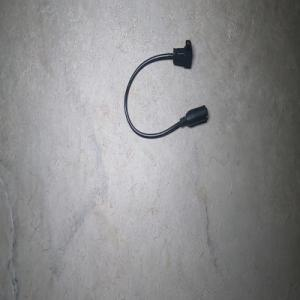Wire: (123, 39, 208, 139)
